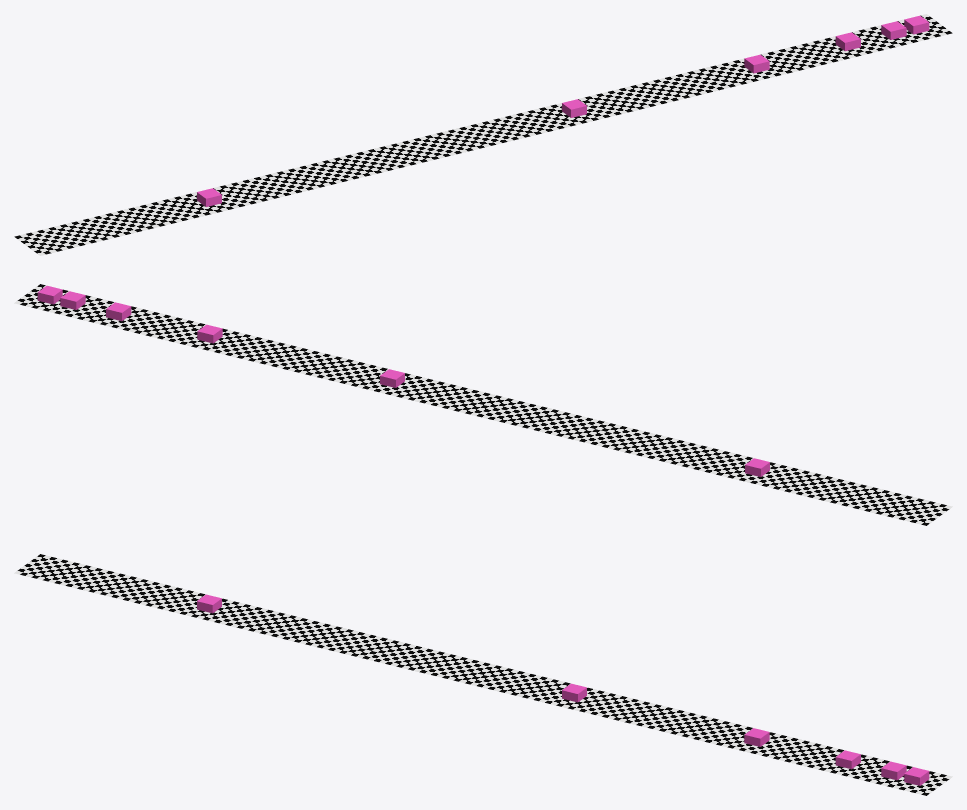
Rendered from dof-reference.gltf.
3 views of the same model, one above another, from view 1: azimuth 30°, elevation 25°; view 2: azimuth 150°, elevation 25°; view 3: azimuth 330°, elevation 25° (orthographic).
Parts seen in each view (by area): view 1: Plane; view 2: Plane; view 3: Plane.
Part boxes in pixels (x1=…): Plane: x1=14, y1=14, x2=952, y2=255; Plane: x1=14, y1=284, x2=952, y2=525; Plane: x1=14, y1=554, x2=952, y2=795.
Bounding box in the file's own units: 40 × 0.7 × 2.
2 materials, 1 textured.
